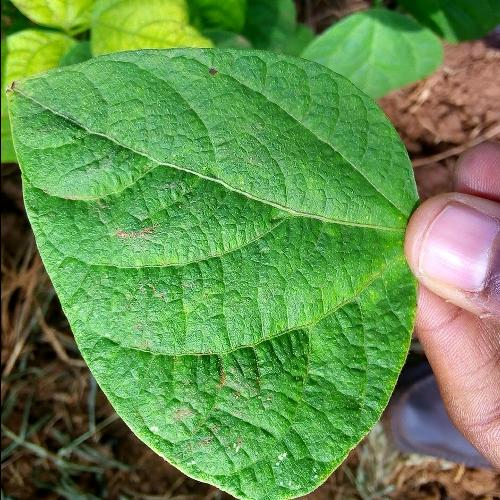sehat: (5, 53, 416, 495)
